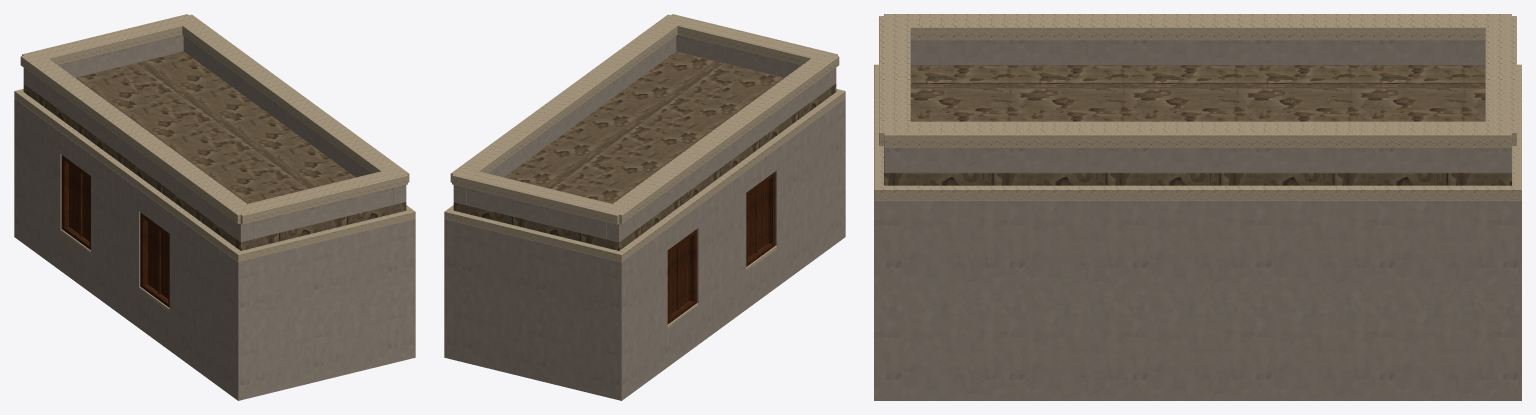
Rendered from spice-upper-room.glb.
3 renders of one model, left to right at view 1: azimuth 30°, elevation 25°; view 2: azimuth 150°, elevation 25°; view 3: azimuth 270°, elevation 25°, orthographic. The views are drawn at different scales.
Visible parts, largest first — view 1: spice-upper-room; view 2: spice-upper-room; view 3: spice-upper-room.
Boxes of the visible parts, <box> form: spice-upper-room: <box>14,14,415,400</box>; spice-upper-room: <box>444,14,845,400</box>; spice-upper-room: <box>874,14,1521,400</box>.
Bounding box in the file's own units: 3 × 2.95 × 6.56.
2 materials, 2 textured.
